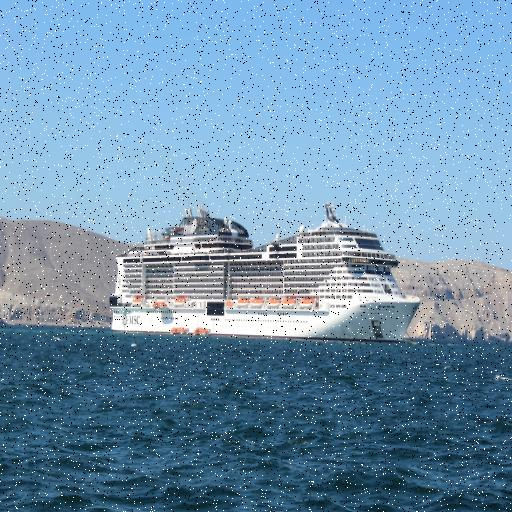cruises: (105, 202, 426, 352)
